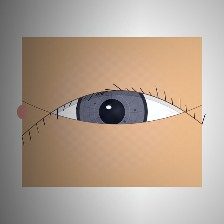hemorrhage_spot: (76, 93, 136, 141)
